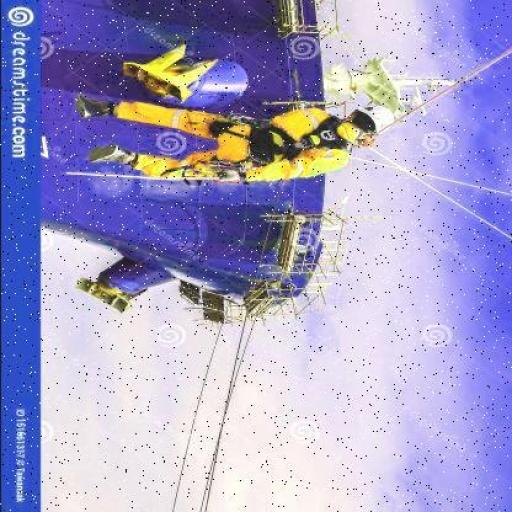person: (64, 90, 396, 183)
safety_shoe: (87, 144, 138, 165), (74, 93, 112, 120)
